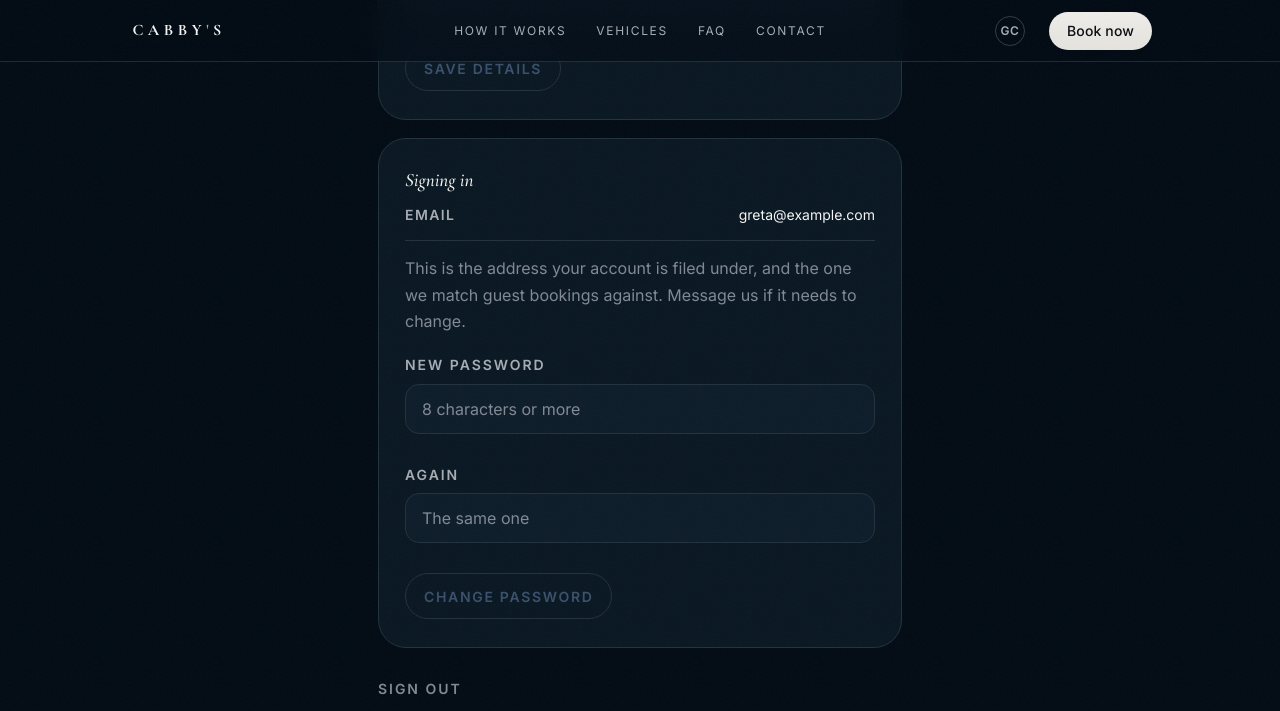
Test: Profile › clears both password fields once the change lands
The width and height of the screenshot is (1280, 711).
(page scrolled)
In the password field labelled "New password": (640, 409) [405,384,875,434], type "longenough1"
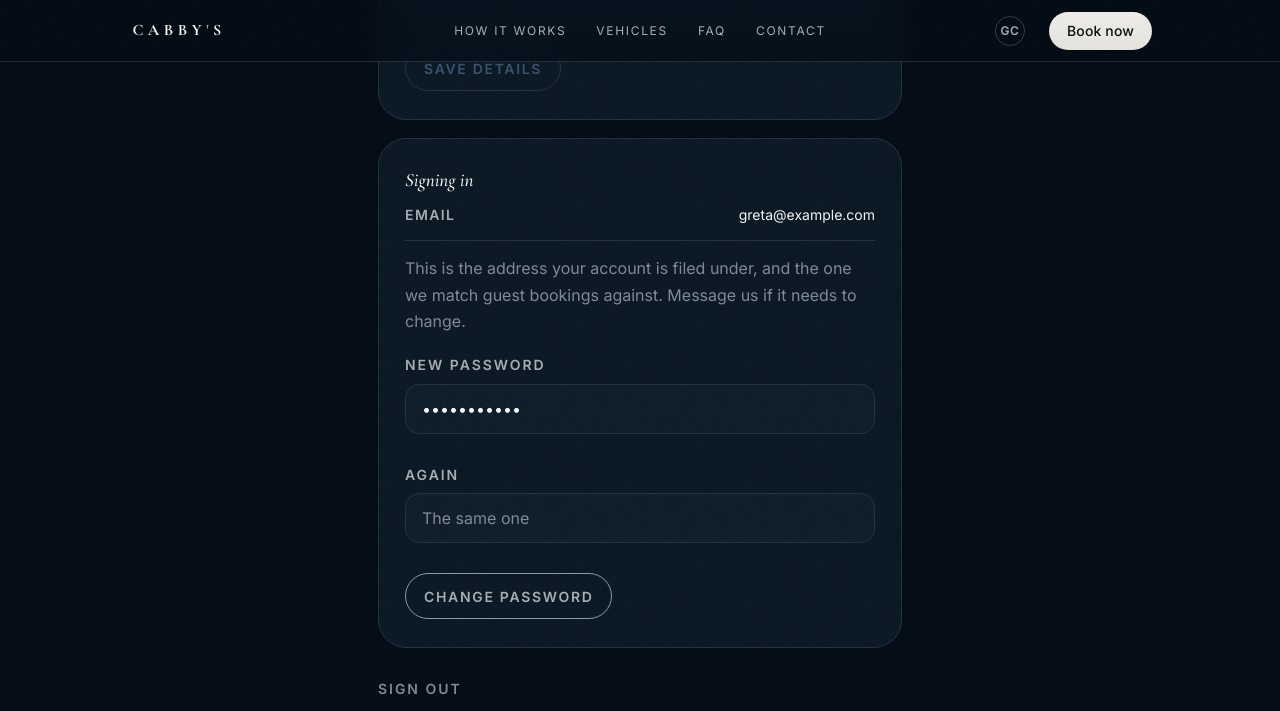
In the password field labelled "Again": (640, 518) [405,493,875,543], type "longenough1"
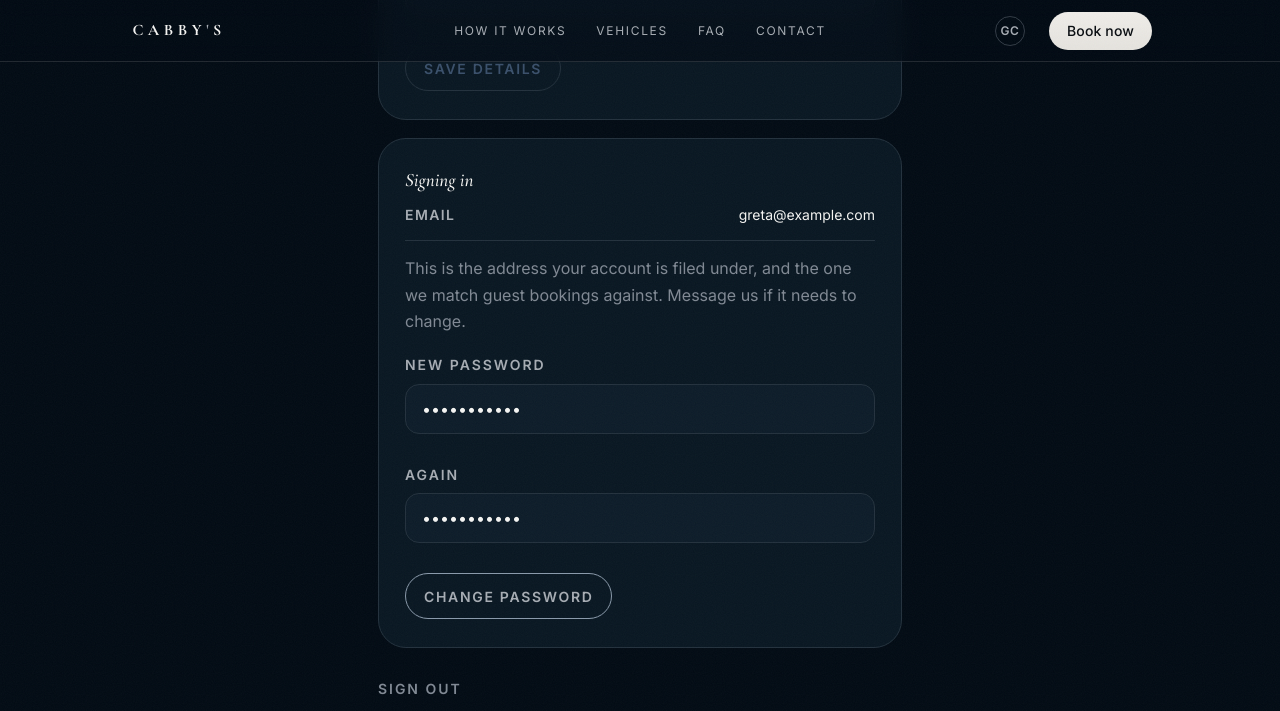
Click the button "Change password": (509, 596) [405,573,612,619]
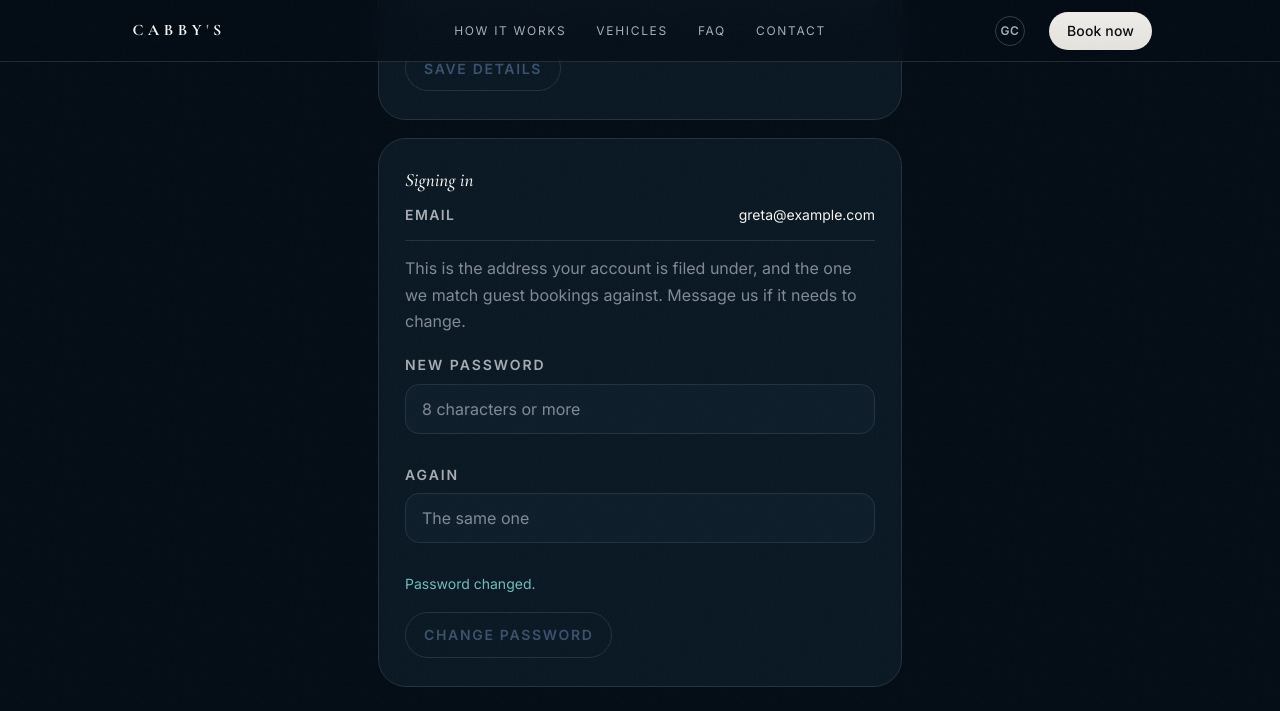
Now the message shows "Password changed", box [405,575,536,592]
Now the password field labelled "New password" is empty, box [405,384,875,434]
Now the password field labelled "Again" is empty, box [405,493,875,543]
